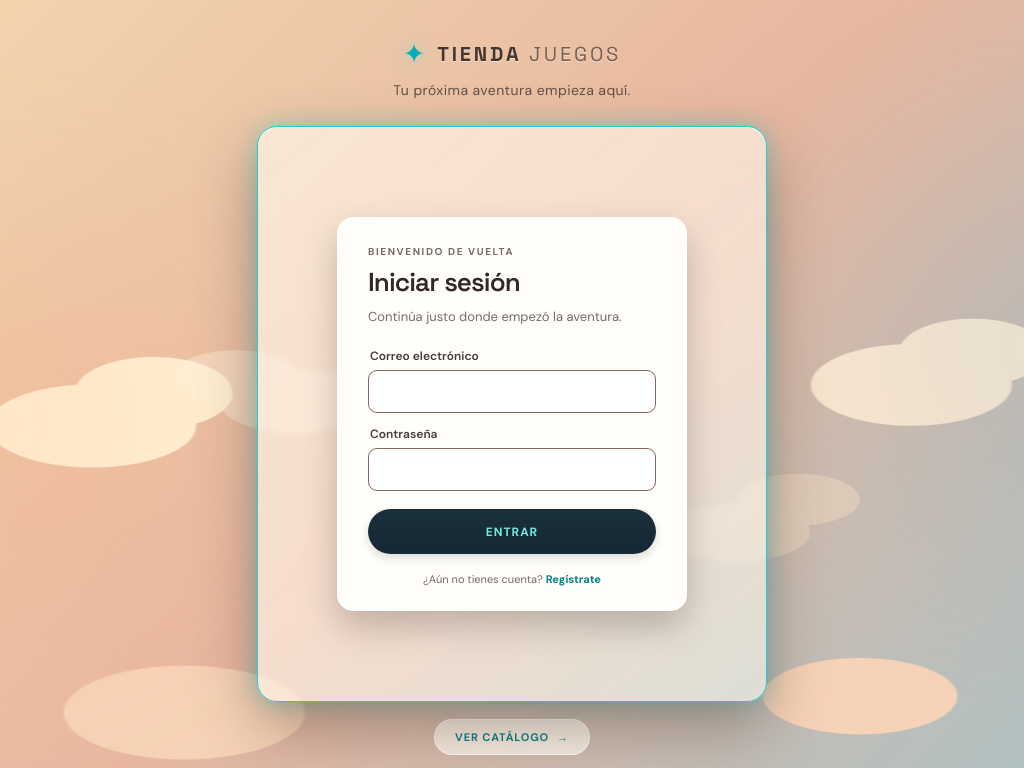
Scenario: AuthScreen › muestra el error devuelto por el servicio al iniciar sesión
In the field labelled "Correo electrónico": (512, 392) [368,370,656,413], type "ana@correo.com"
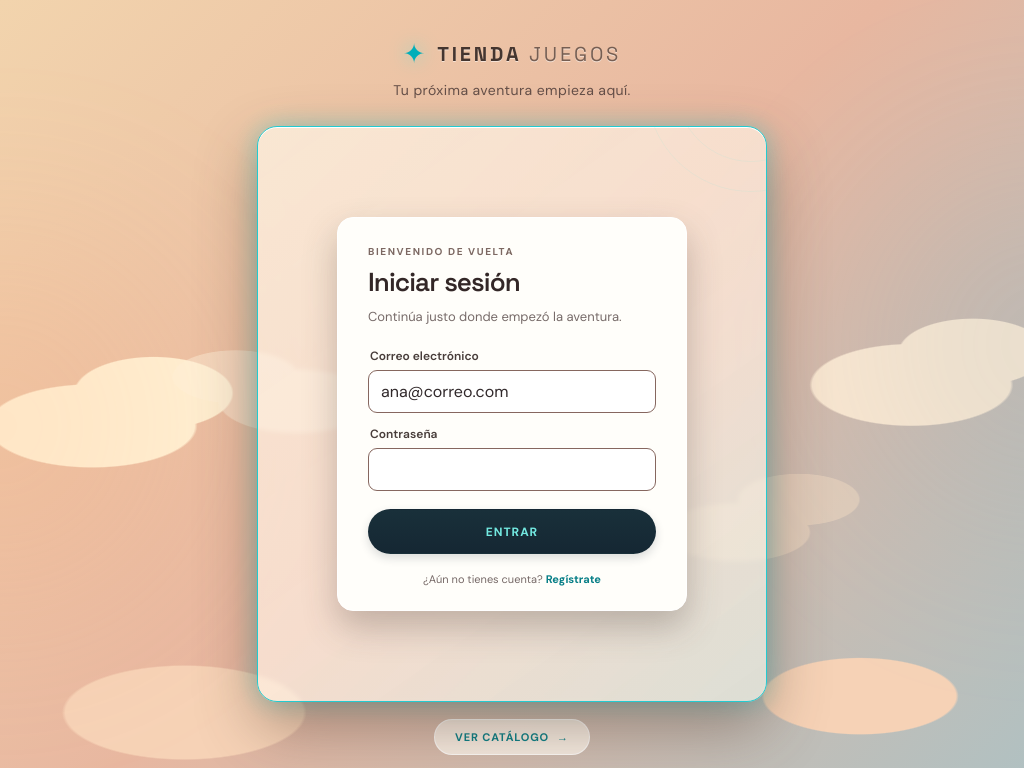
In the password field labelled "Contraseña": (512, 470) [368,448,656,491], type "12345678"
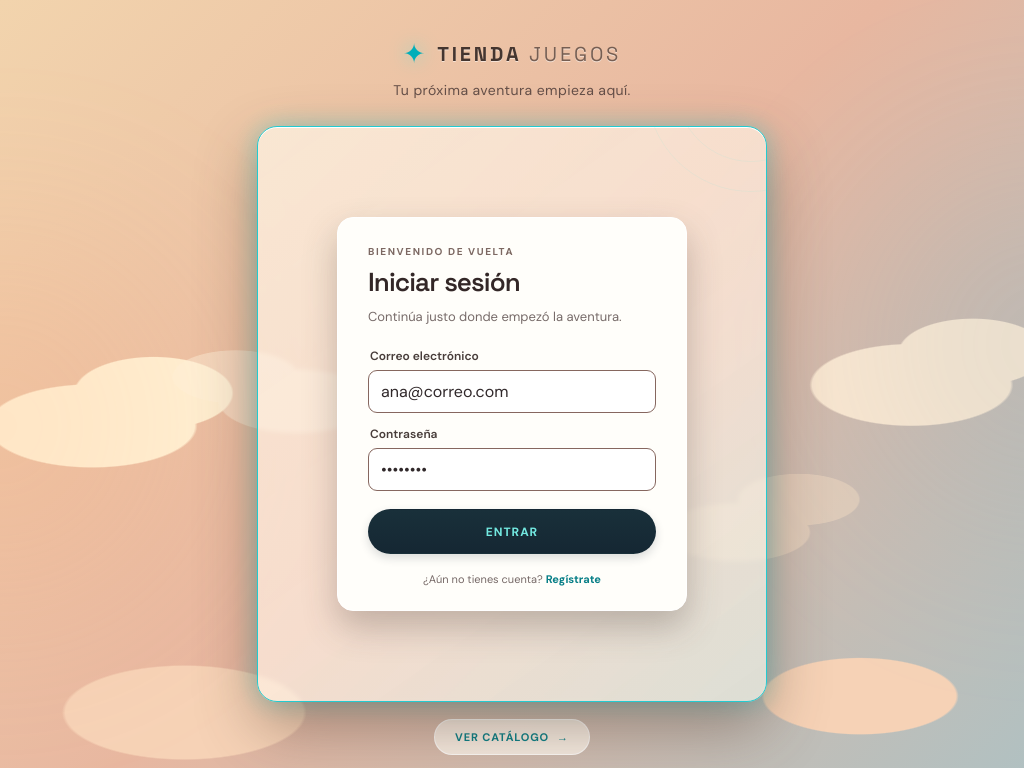
Click the button "Entrar": click(512, 532) [368,509,656,554]
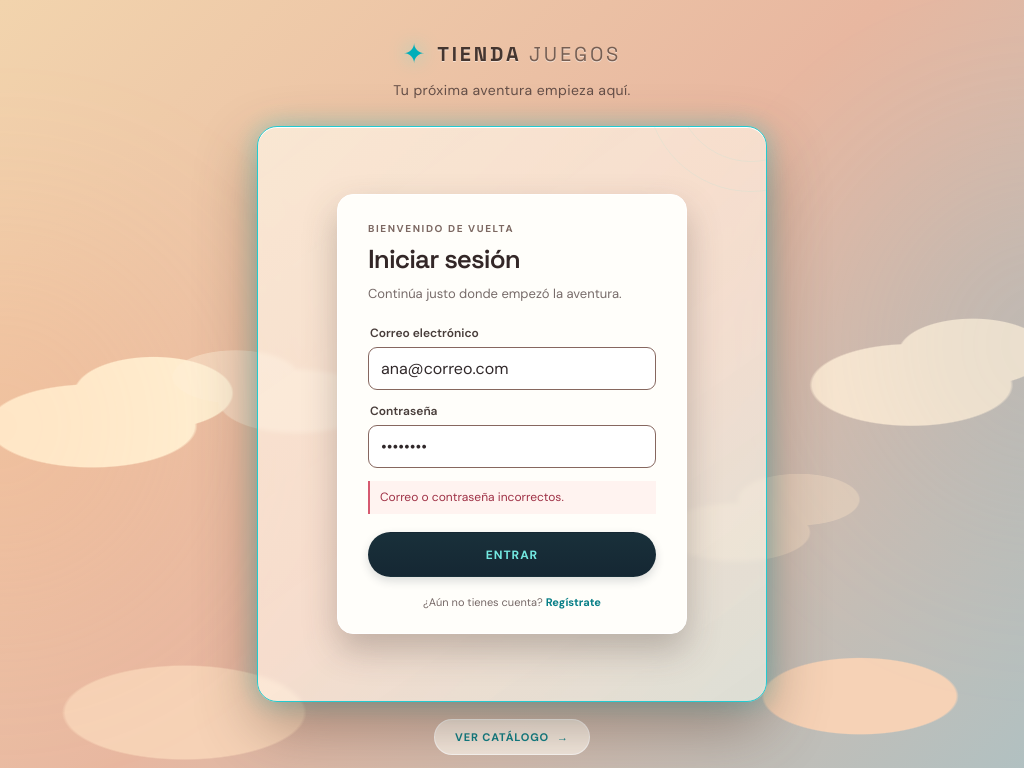
Result: the message shows "Correo o contraseña incorrectos" at [380,489,564,505]
